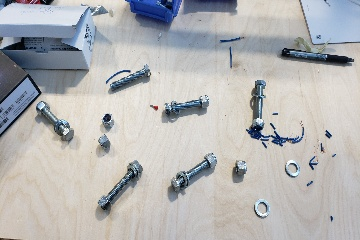Bolt: (108, 62, 155, 94)
FalseAssembly: (163, 93, 212, 119), (246, 77, 269, 132)
FinishedAssembly: (94, 155, 147, 215), (167, 147, 221, 196), (31, 96, 79, 145)
Nut: (231, 156, 250, 180), (95, 133, 114, 151), (101, 112, 116, 131)
Washer: (253, 196, 273, 219), (283, 159, 302, 180)
